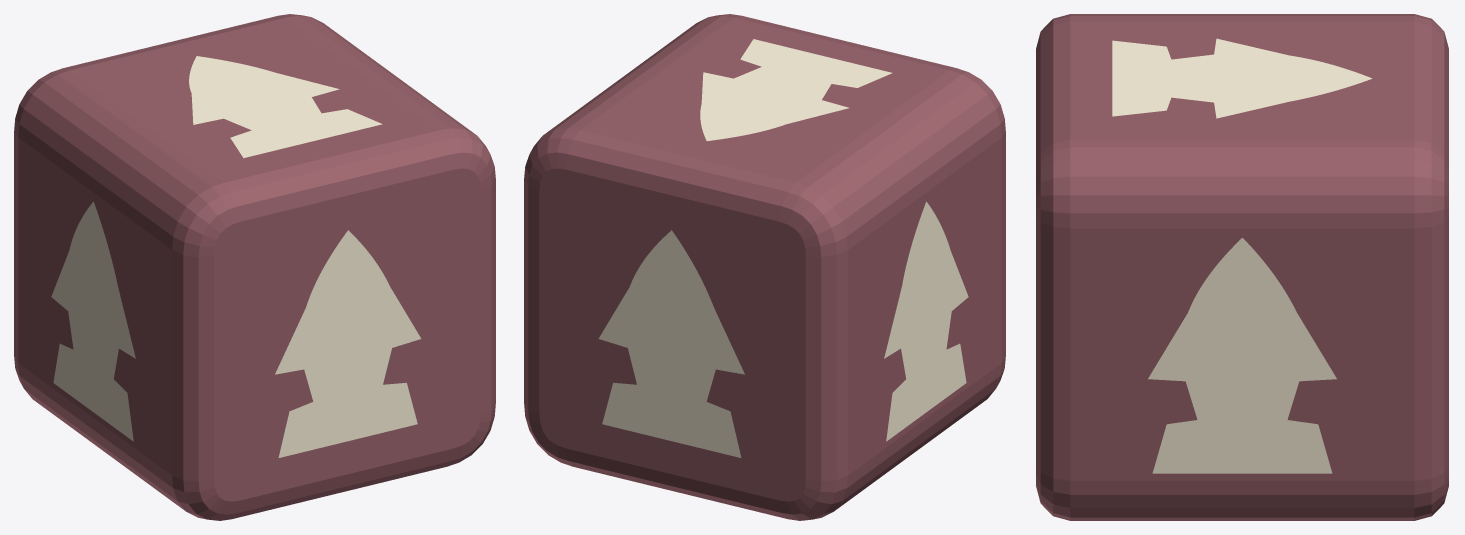
File: budget-marker-2.glb
The picture shows the model from 3 angles, left to right: view 1: azimuth 30°, elevation 25°; view 2: azimuth 150°, elevation 25°; view 3: azimuth 270°, elevation 25°; orthographic projection. The views are drawn at different scales.
Parts seen in each view (by area): view 1: budget-marker-2; view 2: budget-marker-2; view 3: budget-marker-2.
Boxes of the visible parts, x1,y1,x2,y2 form: budget-marker-2: (14,14,495,520); budget-marker-2: (524,14,1005,520); budget-marker-2: (1036,14,1448,520).
Bounding box in the file's own units: 0.008 × 0.008 × 0.008.
